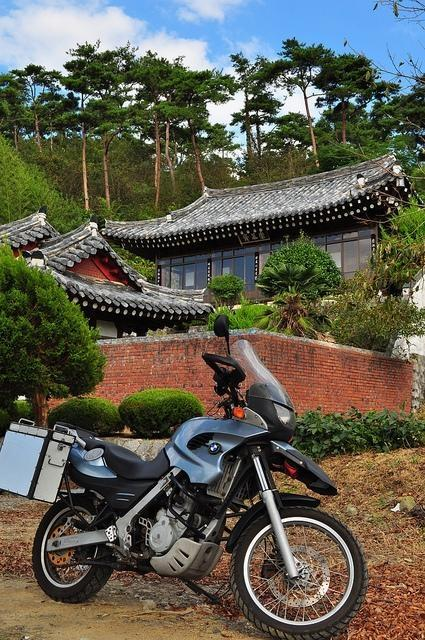motorcycle: (0, 316, 371, 638)
